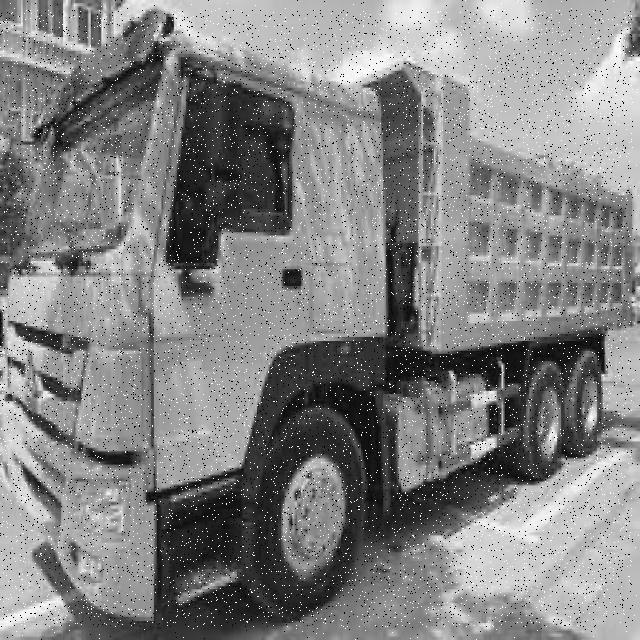Box Truck: (0, 10, 633, 627)
